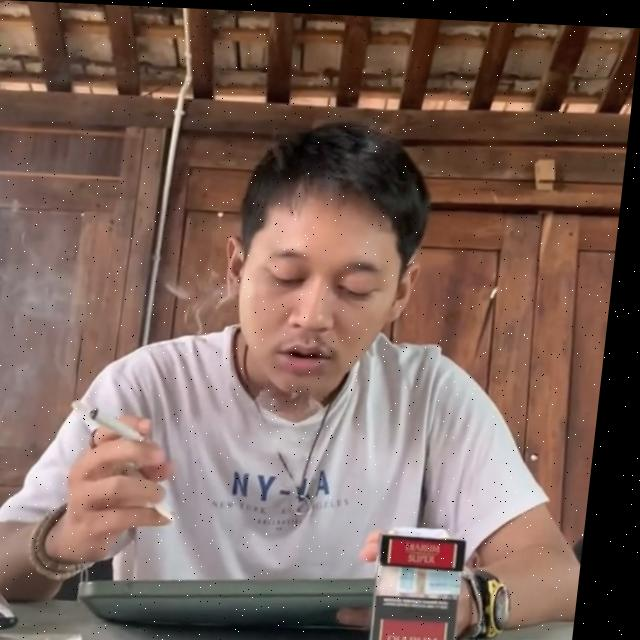cigarette: (97, 406, 158, 440)
